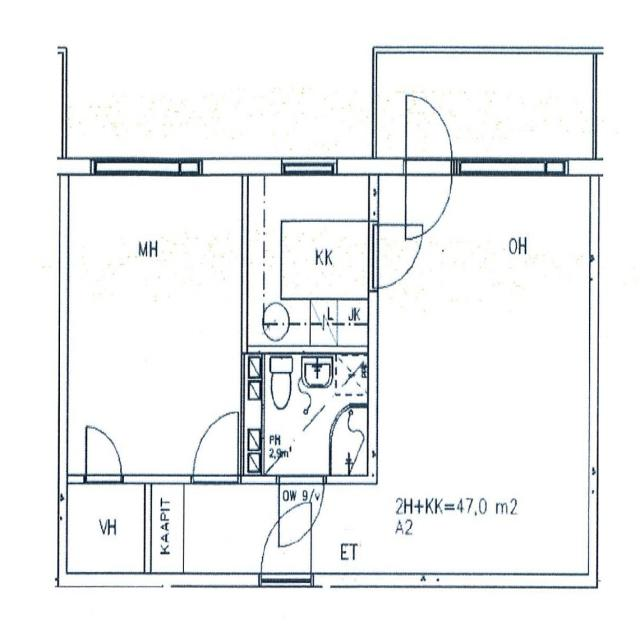door: (261, 504, 310, 588), (406, 157, 452, 240), (406, 94, 452, 176), (368, 224, 424, 288), (278, 474, 324, 546), (194, 412, 239, 483), (86, 424, 122, 483)
